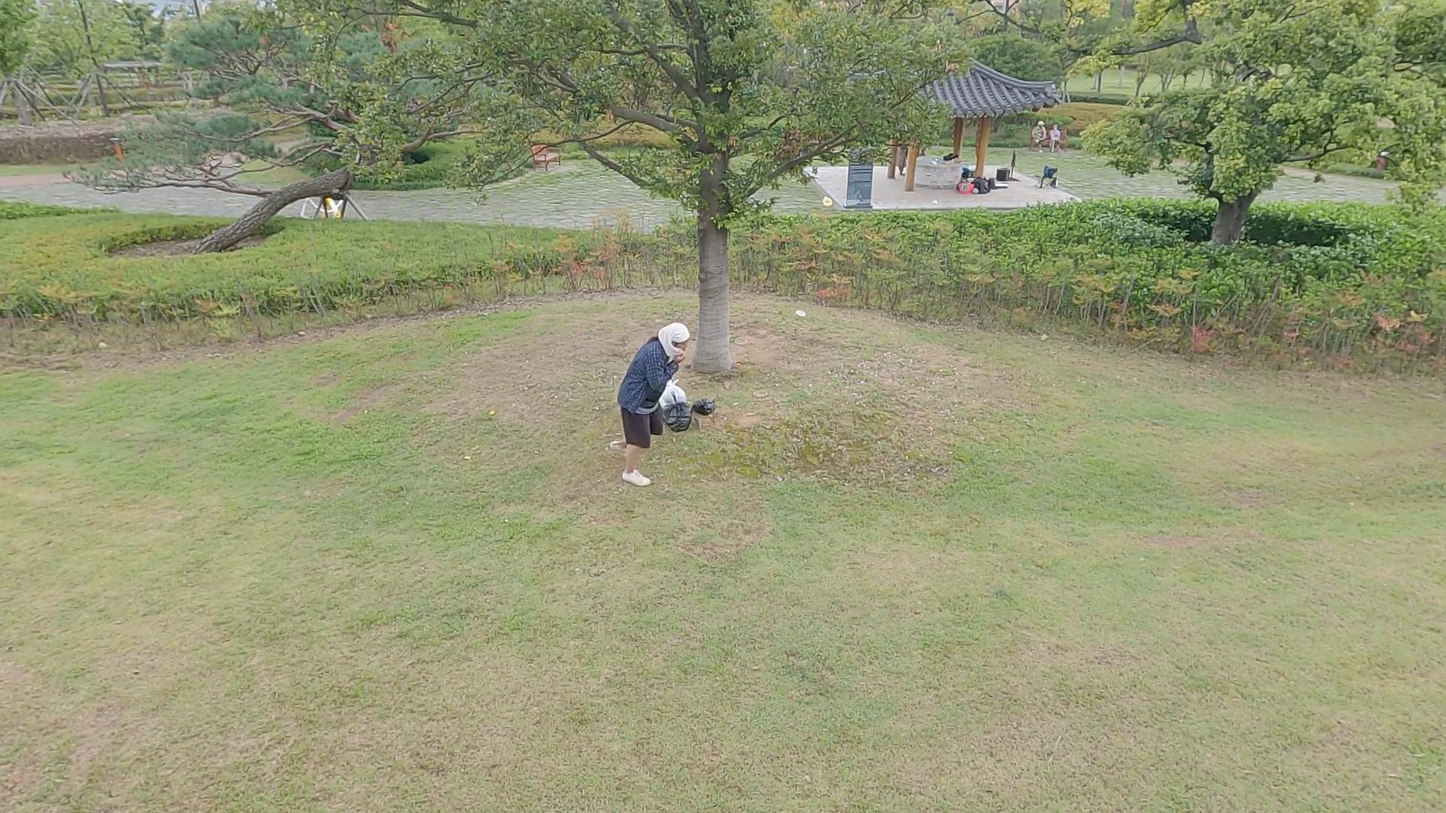person: (610, 314, 693, 496)
trash: (653, 373, 693, 415), (663, 401, 700, 439), (691, 391, 717, 424)
